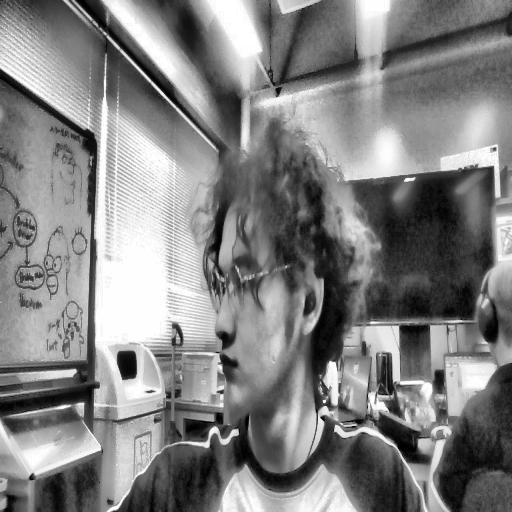Daifuku: (192, 120, 366, 422)
Not Daifuku: (475, 254, 512, 381)
